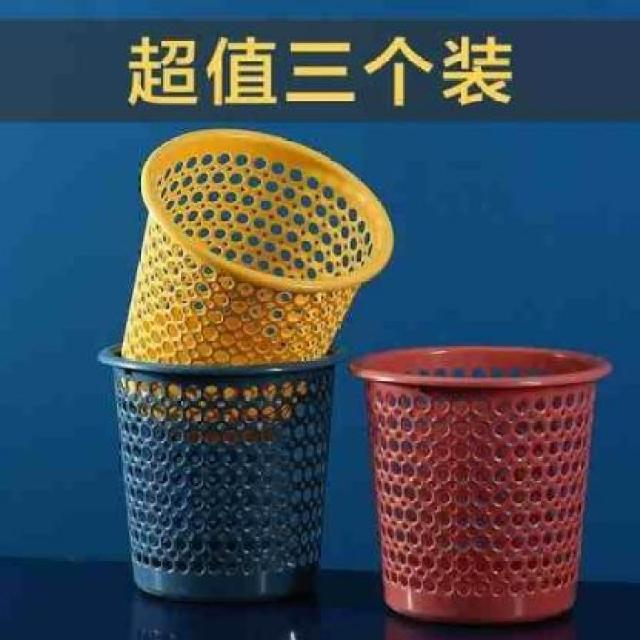dustbin: (115, 123, 398, 452), (342, 342, 620, 624), (94, 335, 349, 608)
